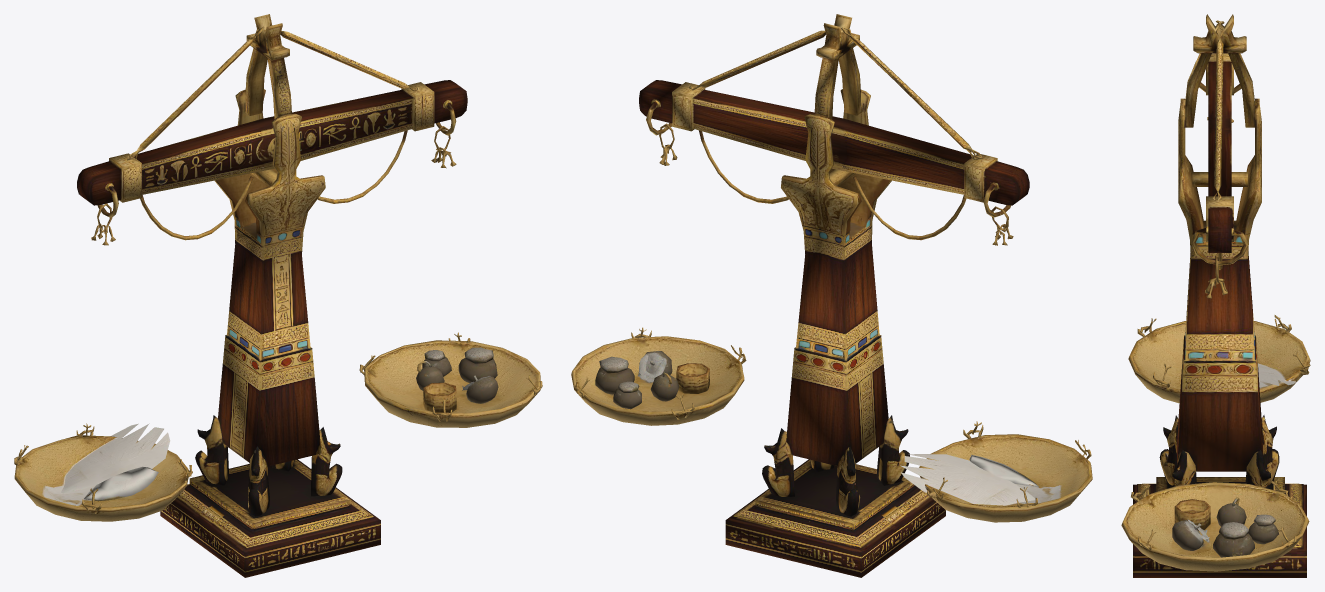
Rendered from 019e0e75-c088-781e-adc6-5da421b7fd42.glb.
3 renders of one model, left to right at view 1: azimuth 30°, elevation 25°; view 2: azimuth 150°, elevation 25°; view 3: azimuth 270°, elevation 25°, orthographic. The views are drawn at different scales.
Parts seen in each view (by area): view 1: tripo_node_332965ab-d07b-46c6-89cf-758d661f6b9c; view 2: tripo_node_332965ab-d07b-46c6-89cf-758d661f6b9c; view 3: tripo_node_332965ab-d07b-46c6-89cf-758d661f6b9c.
Boxes of the visible parts, x1,y1,x2,y2 form: tripo_node_332965ab-d07b-46c6-89cf-758d661f6b9c: (14,14,542,577); tripo_node_332965ab-d07b-46c6-89cf-758d661f6b9c: (571,14,1092,577); tripo_node_332965ab-d07b-46c6-89cf-758d661f6b9c: (1121,14,1310,577).
Bounding box in the file's own units: 0.998 × 0.9746 × 0.3184.
1 material, 1 textured.
